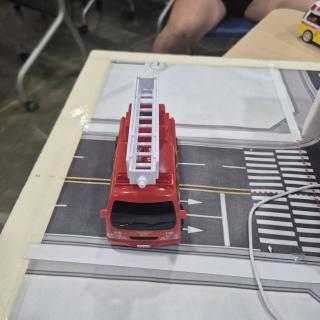Fire_truck: (100, 75, 186, 248)
